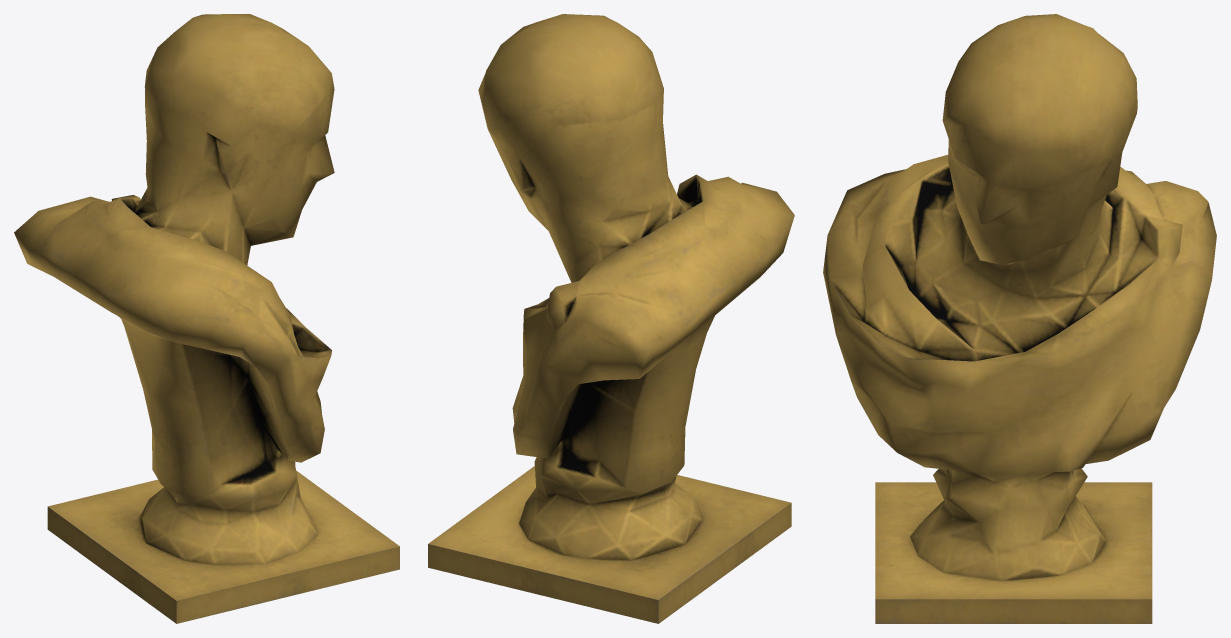
Rendered from Sculpture3.glb.
3 renders of one model, left to right at view 1: azimuth 30°, elevation 25°; view 2: azimuth 150°, elevation 25°; view 3: azimuth 270°, elevation 25°, orthographic. The views are drawn at different scales.
Visible parts, largest first — view 1: SM_Sculpture02; view 2: SM_Sculpture02; view 3: SM_Sculpture02.
Part boxes in pixels (<box>): SM_Sculpture02: <box>14,14,399,623</box>; SM_Sculpture02: <box>428,14,794,623</box>; SM_Sculpture02: <box>823,14,1216,623</box>.
Bounding box in the file's own units: 0.5536 × 1.1 × 0.7111.
1 material, 1 textured.
